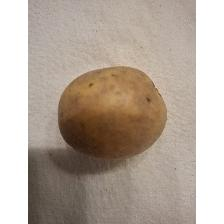Kartoffel: (56, 63, 172, 163)
